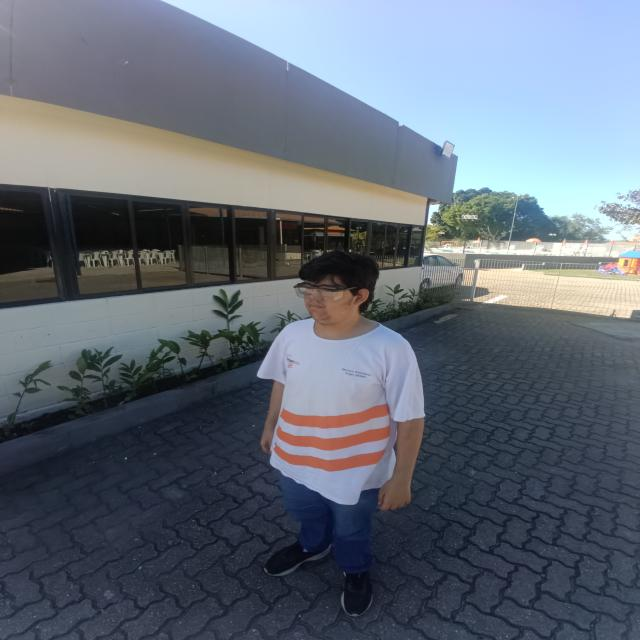oculos-epi: (293, 284, 357, 301)
